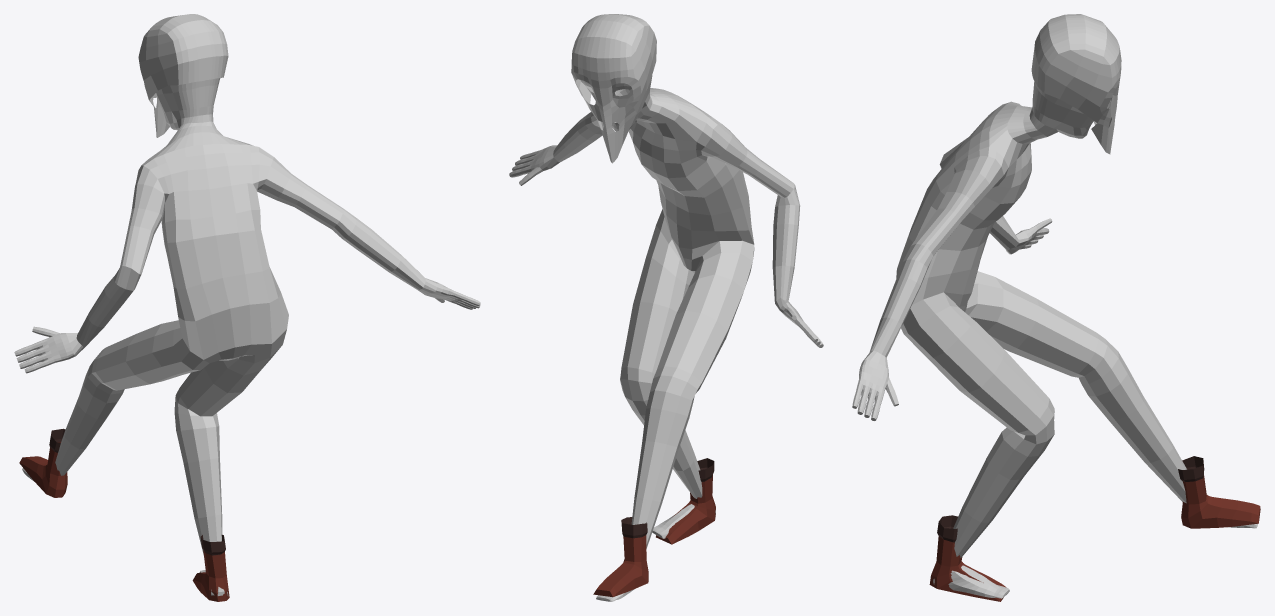
The model's file is saltoadelante_000131.obj.
The picture shows the model from 3 angles, left to right: view 1: azimuth 30°, elevation 25°; view 2: azimuth 150°, elevation 25°; view 3: azimuth 270°, elevation 25°; orthographic projection. The views are drawn at different scales.
Visible parts, largest first — view 1: Plane.002_Plane.001, Plane.004, Plane.003; view 2: Plane.002_Plane.001, Plane.004, Plane.003; view 3: Plane.002_Plane.001, Plane.004, Plane.003.
Part boxes in pixels (x1,y1,x2,y2): Plane.002_Plane.001: (14, 14, 480, 596); Plane.004: (19, 428, 67, 497); Plane.003: (192, 534, 229, 601); Plane.002_Plane.001: (509, 14, 823, 601); Plane.004: (593, 517, 648, 597); Plane.003: (656, 458, 715, 544); Plane.002_Plane.001: (852, 14, 1257, 598); Plane.004: (1178, 456, 1260, 528); Plane.003: (929, 515, 1006, 601).
Bounding box in the file's own units: 4.51 × 6.04 × 3.82.
